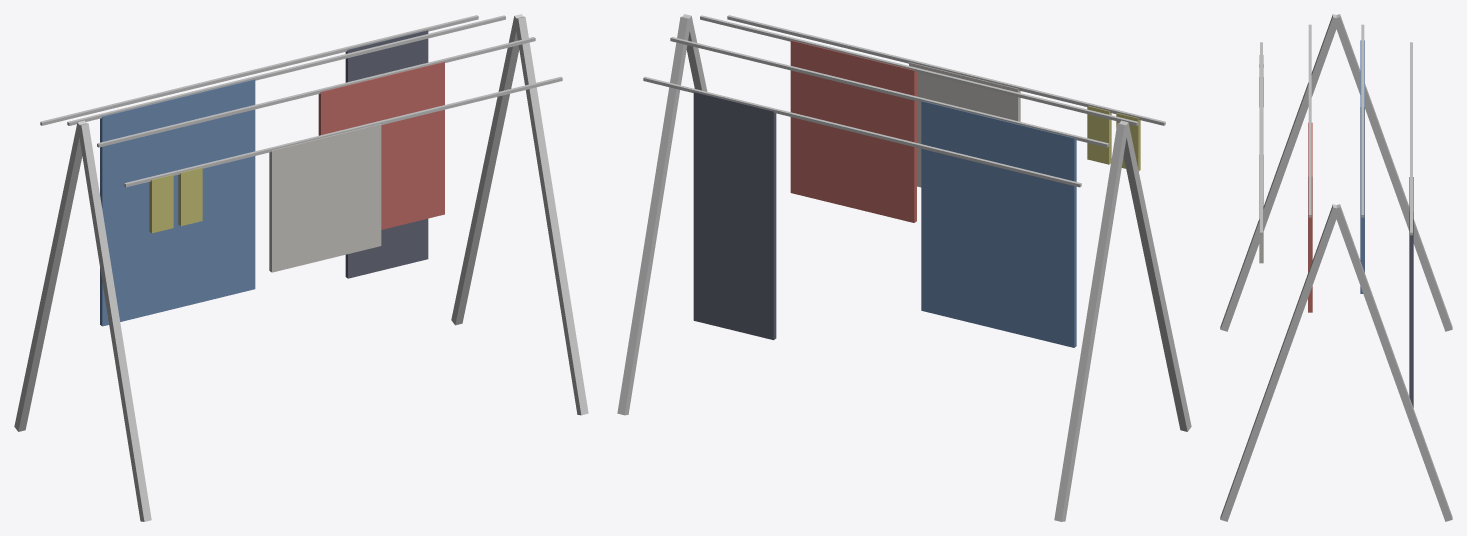
Rendered from 0096-Buildings-part-models-airer.glb.
3 renders of one model, left to right at view 1: azimuth 30°, elevation 25°; view 2: azimuth 150°, elevation 25°; view 3: azimuth 270°, elevation 25°, orthographic. The views are drawn at different scales.
Parts seen in each view (by area): view 1: Buildings: part models/airer; view 2: Buildings: part models/airer; view 3: Buildings: part models/airer.
Boxes of the visible parts, x1,y1,x2,y2 form: Buildings: part models/airer: (14, 14, 588, 521); Buildings: part models/airer: (617, 14, 1191, 521); Buildings: part models/airer: (1220, 14, 1452, 521).
Size of the model in its own units: 1.22 by 0.9262 by 0.619.
